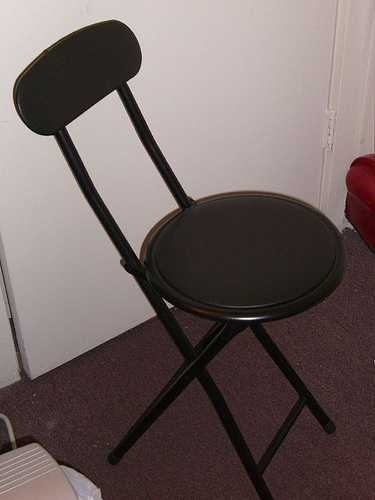obstacle: (13, 20, 343, 499)
